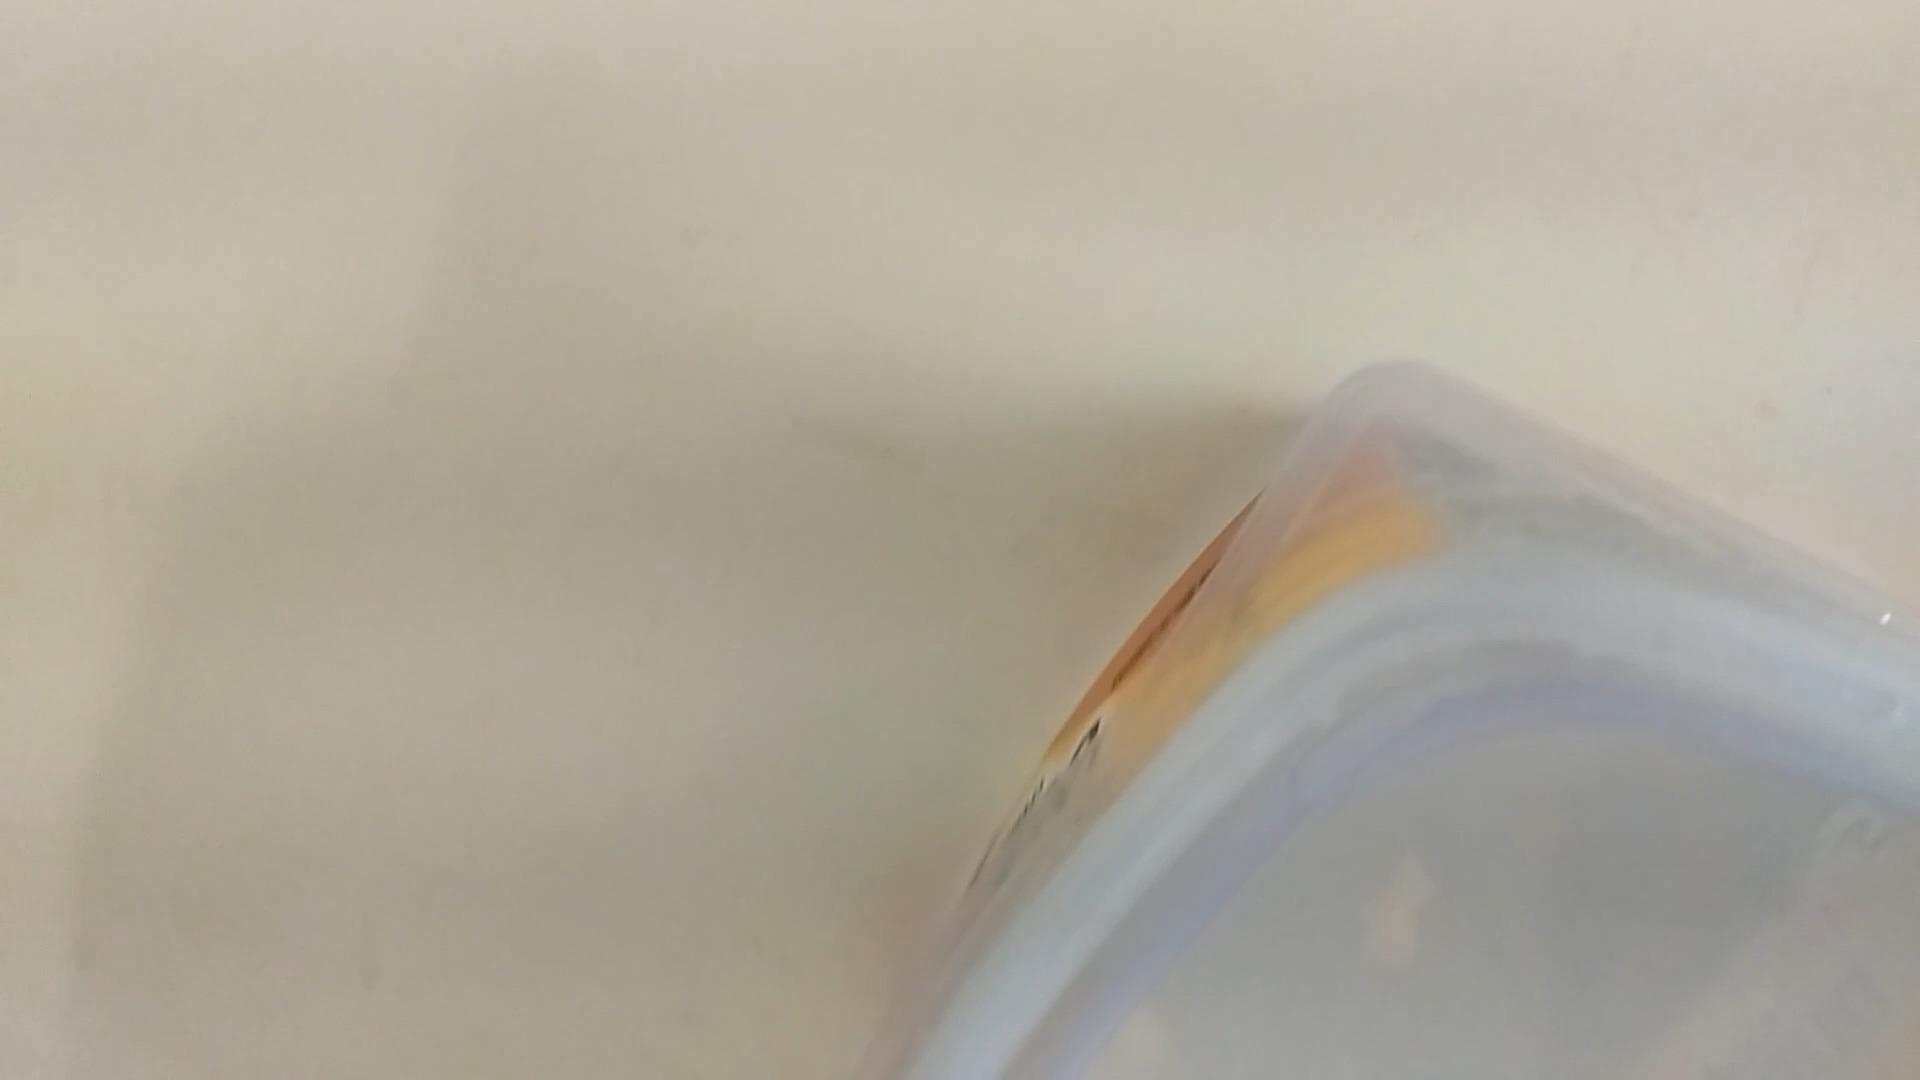butter: (852, 365, 1920, 1073)
